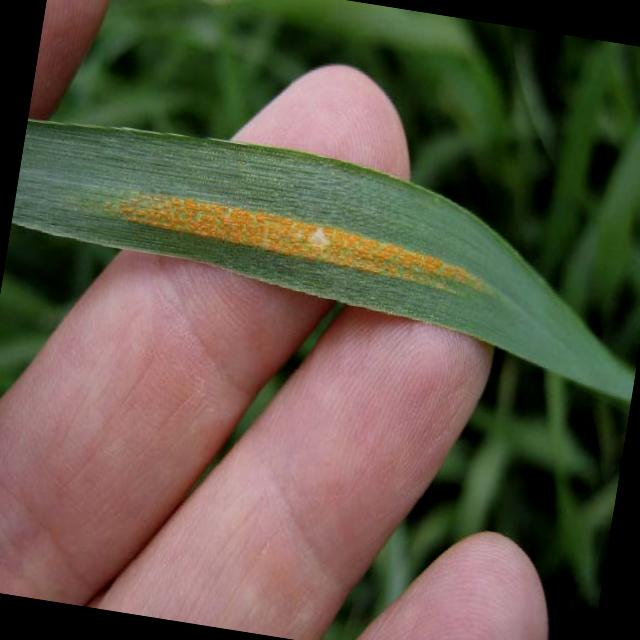leaf_rust: (12, 119, 634, 403)
